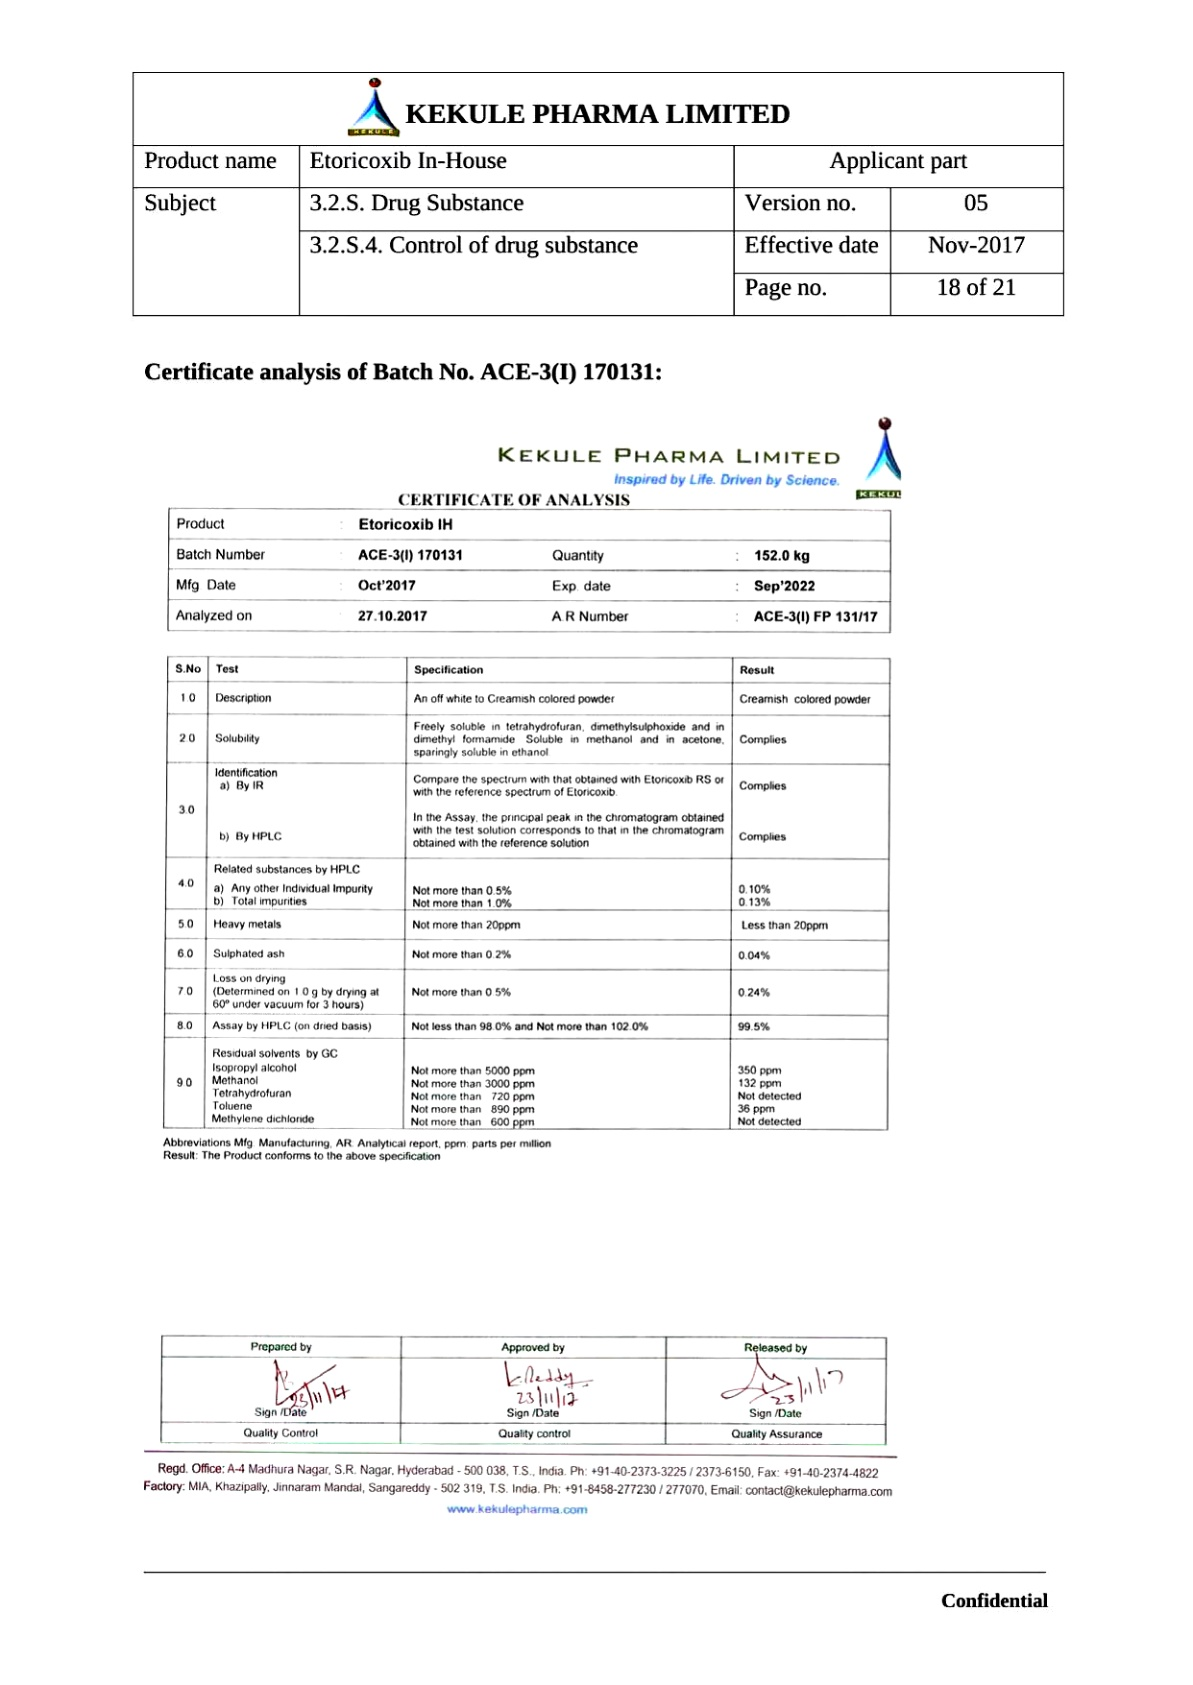full_lined: (165, 655, 892, 1131), (159, 1334, 888, 1445)
merged_cells: (130, 70, 1065, 318)
partial_lined: (167, 506, 892, 634)
